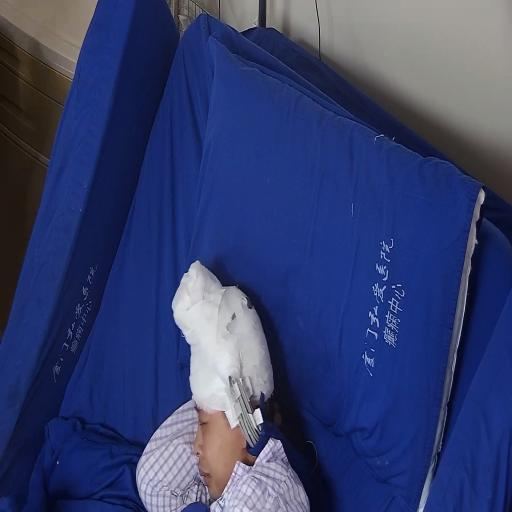Seizure: (181, 355, 263, 495)
